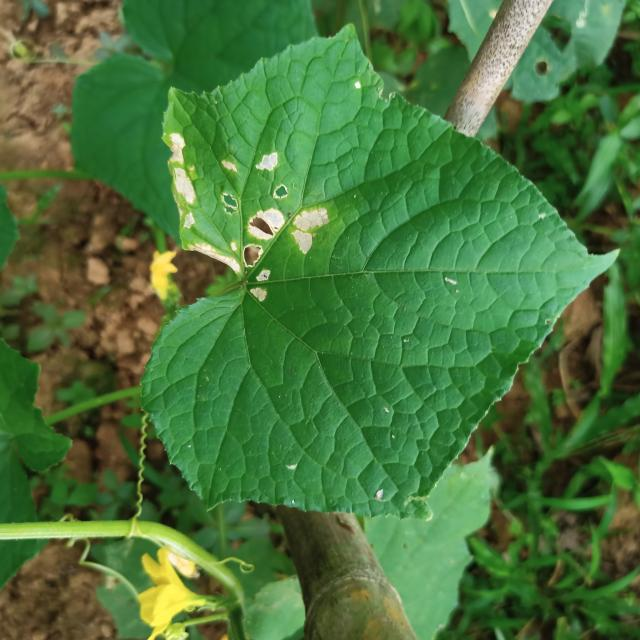disease_cucumber: (168, 132, 330, 304)
